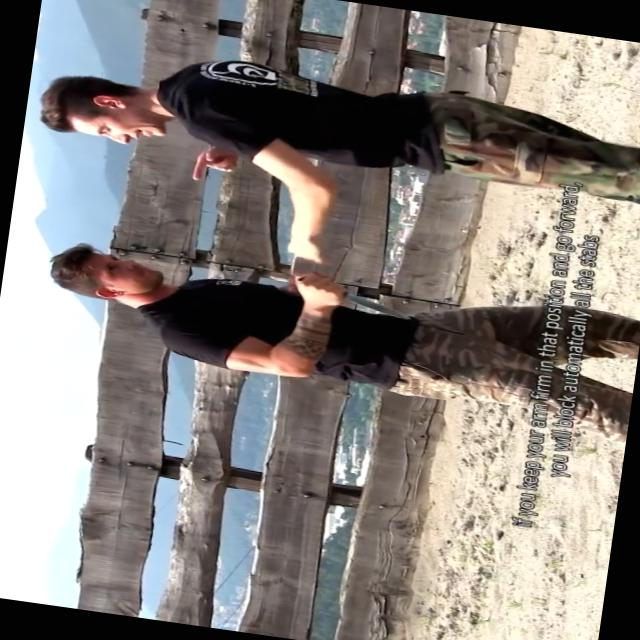knife: (296, 268, 424, 326)
